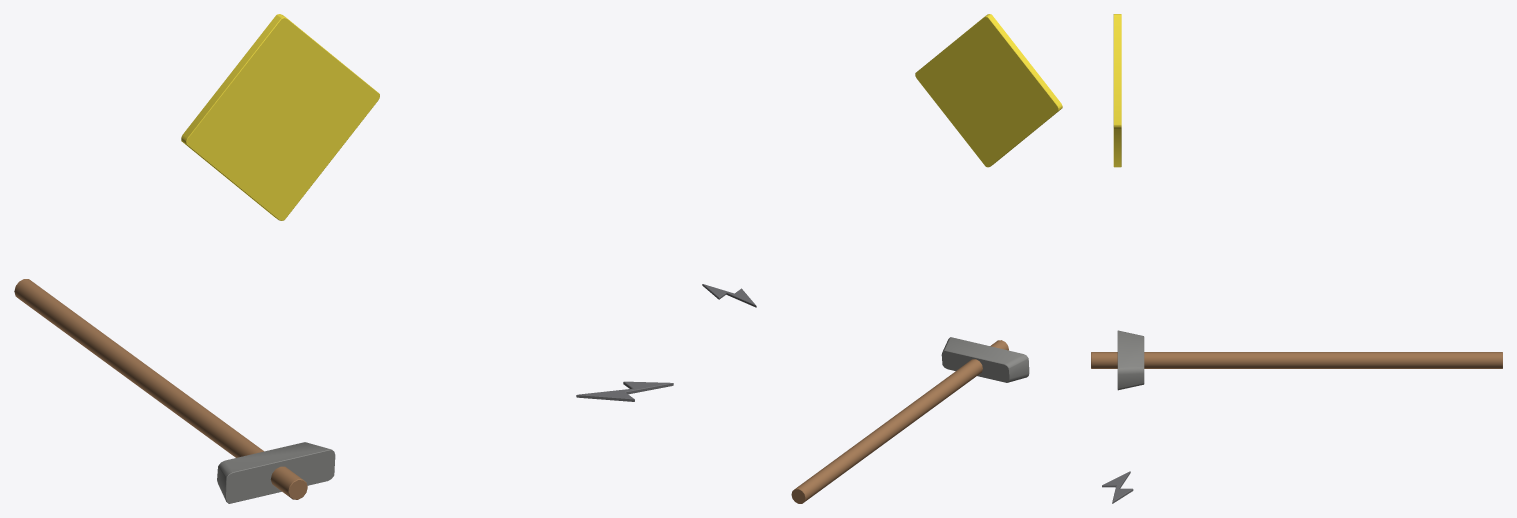
Rendered from LV_warning_sign.fbx.
3 views of the same model, side by side, from view 1: azimuth 30°, elevation 25°; view 2: azimuth 150°, elevation 25°; view 3: azimuth 270°, elevation 25° (orthographic). The views are drawn at different scales.
Visible parts, largest first — view 1: LV_warning_sign; view 2: LV_warning_sign; view 3: LV_warning_sign.
Boxes of the visible parts, bbox=[...] form: LV_warning_sign: bbox=[14, 14, 673, 503]; LV_warning_sign: bbox=[702, 14, 1062, 503]; LV_warning_sign: bbox=[1091, 14, 1502, 503].
Size of the model in its own units: 1.59 by 1.49 by 1.55.
